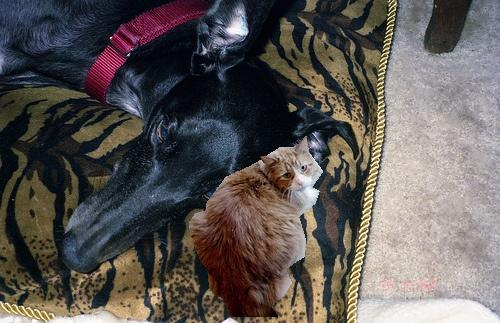tampered: (189, 137, 323, 317)
